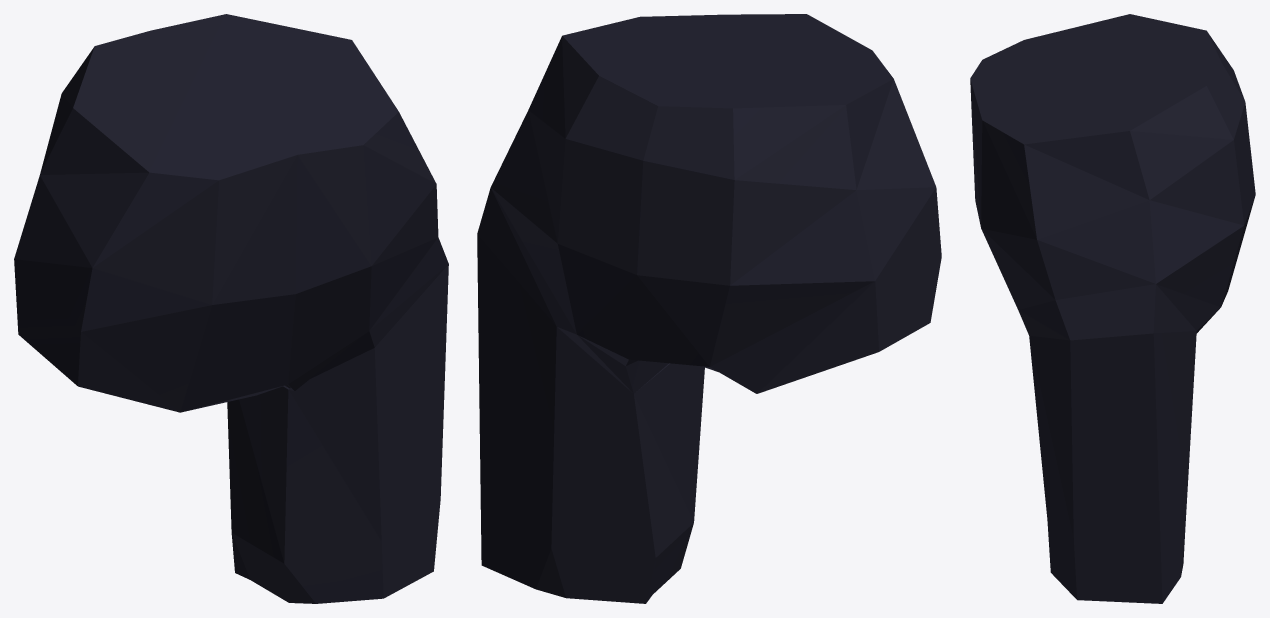
File: pants.outlaw.fbx
3 views of the same model, side by side, from view 1: azimuth 30°, elevation 25°; view 2: azimuth 150°, elevation 25°; view 3: azimuth 270°, elevation 25° (orthographic). The views are drawn at different scales.
Visible parts, largest first — view 1: pants; view 2: pants; view 3: pants.
Part boxes in pixels (box(x1,y1,x2,y2)): pants: box(14, 14, 448, 603); pants: box(477, 14, 941, 603); pants: box(970, 14, 1255, 603).
Size of the model in its own units: 34.48 by 44.87 by 25.3.
